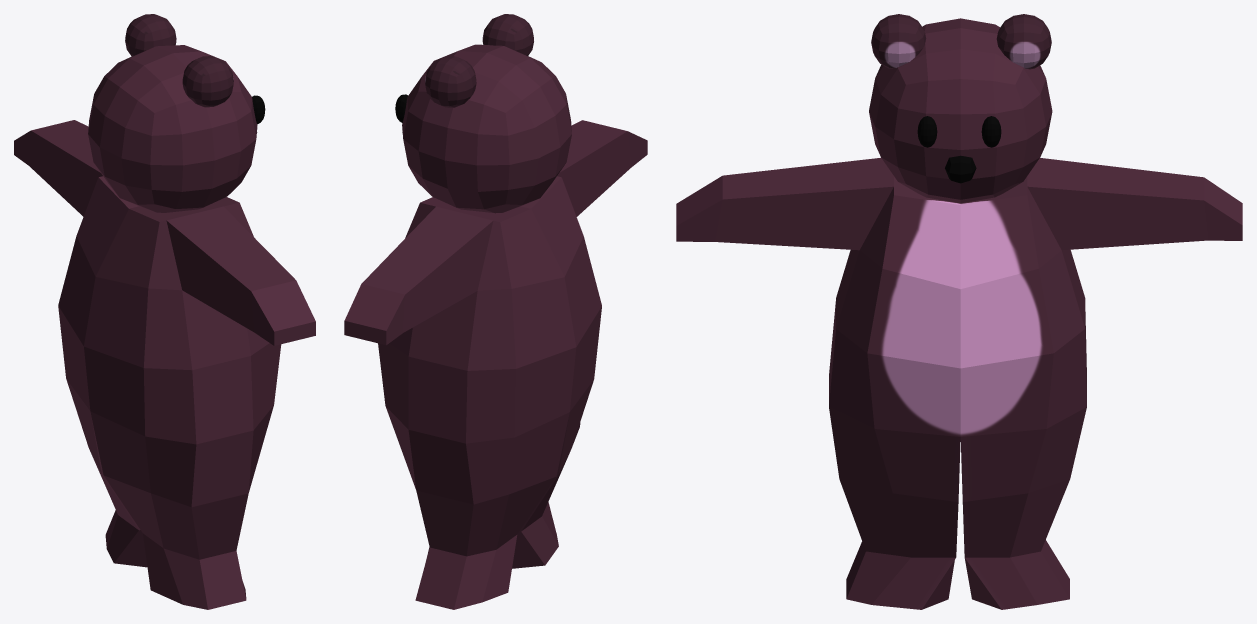
File: Toffee.glb
The picture shows the model from 3 angles, left to right: view 1: azimuth 30°, elevation 25°; view 2: azimuth 150°, elevation 25°; view 3: azimuth 270°, elevation 25°; orthographic projection. The views are drawn at different scales.
Visible parts, largest first — view 1: Cuerpo; view 2: Cuerpo; view 3: Cuerpo.
Boxes of the visible parts, left/top/right/bottom form: Cuerpo: left=14, top=14, right=315, bottom=609; Cuerpo: left=344, top=14, right=647, bottom=609; Cuerpo: left=676, top=14, right=1242, bottom=609.
Bounding box in the file's own units: 1.52 × 4.42 × 3.95.
7 materials, 3 textured.
